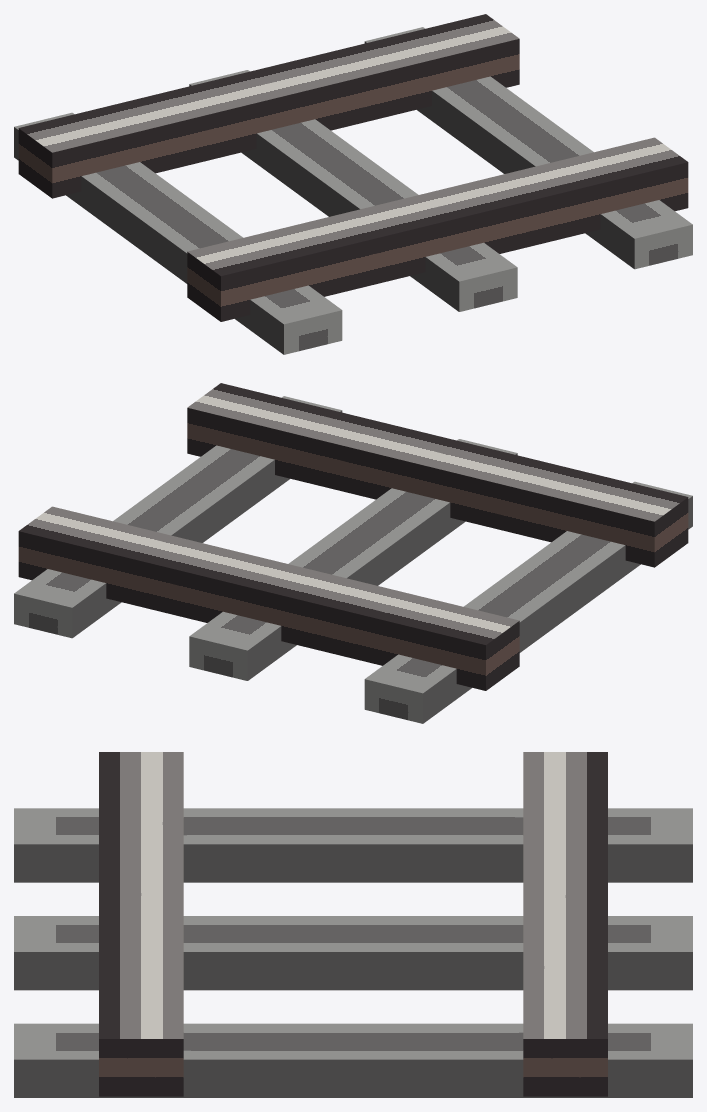
The model's file is rail.gltf.
3 renders of one model, top to bottom at view 1: azimuth 30°, elevation 25°; view 2: azimuth 150°, elevation 25°; view 3: azimuth 270°, elevation 25°, orthographic. The views are drawn at different scales.
Visible parts, largest first — view 1: rail; view 2: rail; view 3: rail.
Part boxes in pixels (x1,y1,x2,y2): rail: (14,14,692,354); rail: (14,383,692,723); rail: (14,752,692,1097).
Size of the model in its own units: 2 by 0.25 by 2.
Materials: 2 (2 with a texture image).
